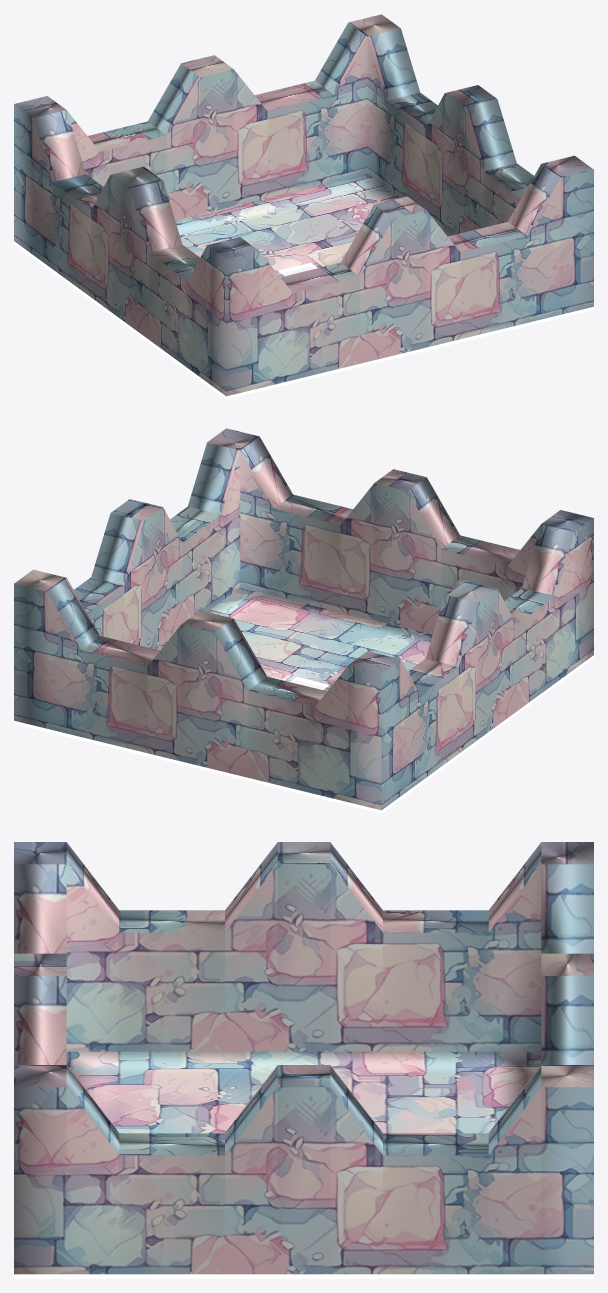
The model's file is startFloor.glb.
3 views of the same model, one above another, from view 1: azimuth 30°, elevation 25°; view 2: azimuth 150°, elevation 25°; view 3: azimuth 270°, elevation 25° (orthographic). The views are drawn at different scales.
Parts seen in each view (by area): view 1: StartFloor; view 2: StartFloor; view 3: StartFloor.
Boxes of the visible parts, x1,y1,x2,y2 form: StartFloor: [14, 14, 593, 399]; StartFloor: [14, 428, 593, 813]; StartFloor: [14, 842, 593, 1278].
Size of what is drawn, in the model's own units: 32 by 11.67 by 32.
2 materials, 1 textured.
